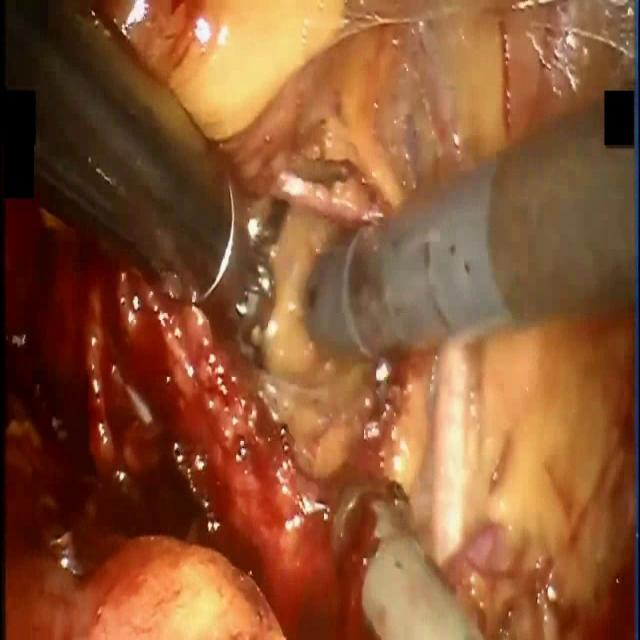surgical-area: (4, 1, 640, 639)
surgical-tool: (0, 0, 276, 364), (308, 91, 640, 359), (324, 473, 490, 639)
